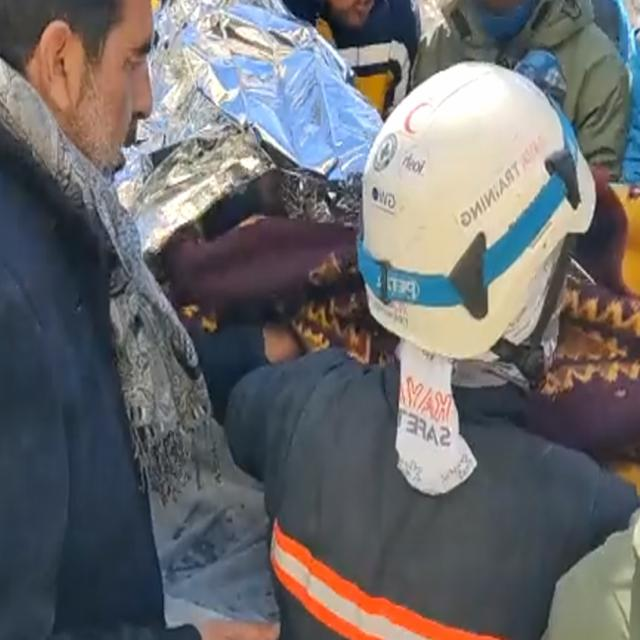Safety-Helmet: (356, 60, 592, 344)
